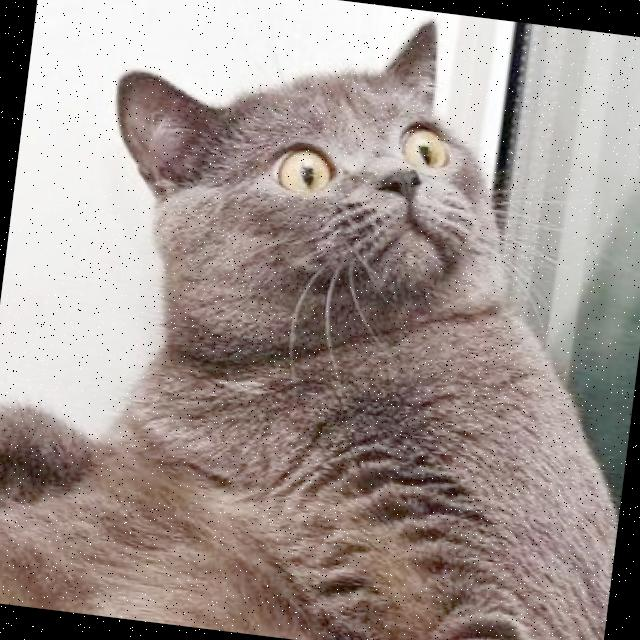Surprised: (218, 92, 496, 323)
